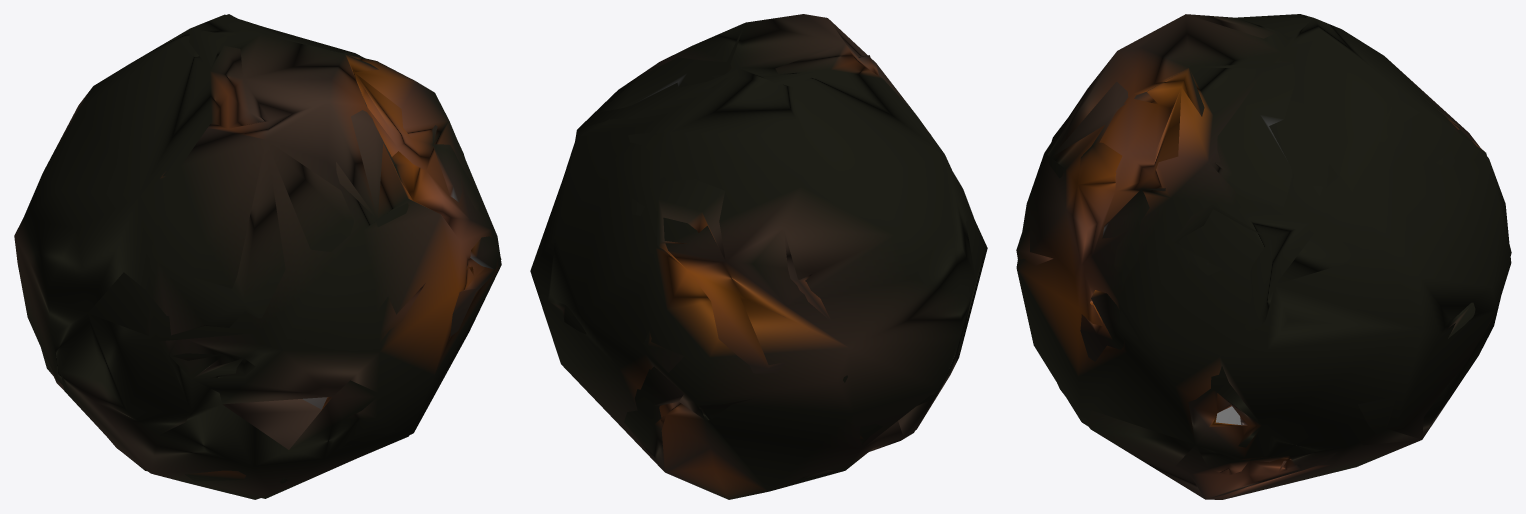
The model's file is gen3d-meteorite-lod1.glb.
3 renders of one model, left to right at view 1: azimuth 30°, elevation 25°; view 2: azimuth 150°, elevation 25°; view 3: azimuth 270°, elevation 25°, orthographic. The views are drawn at different scales.
Parts seen in each view (by area): view 1: part_0; view 2: part_0; view 3: part_0.
Boxes of the visible parts, x1,y1,x2,y2 form: part_0: (14, 14, 501, 499); part_0: (530, 14, 987, 499); part_0: (1016, 14, 1511, 499).
Size of the model in its own units: 1.02 by 1 by 1.03.
